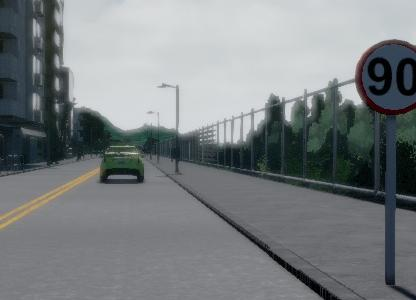Speed_90: (353, 36, 416, 117)
